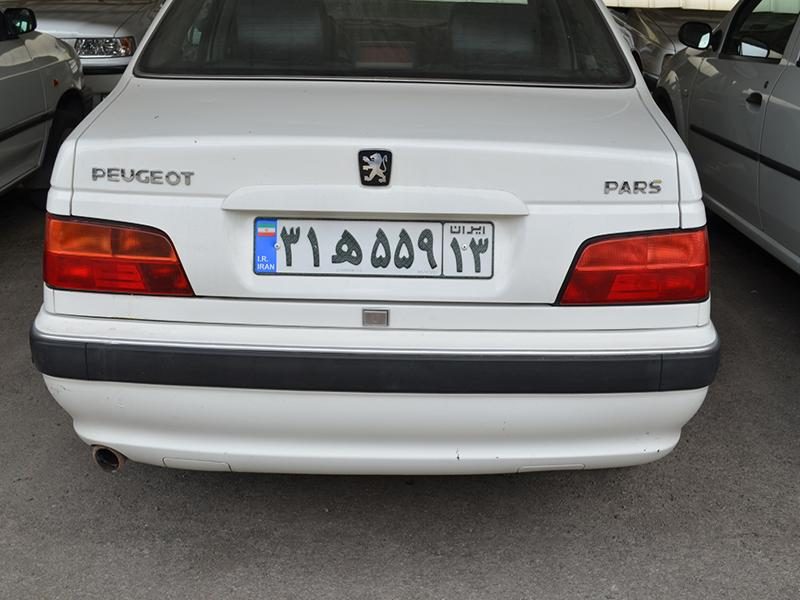Plate: (238, 209, 497, 289)
